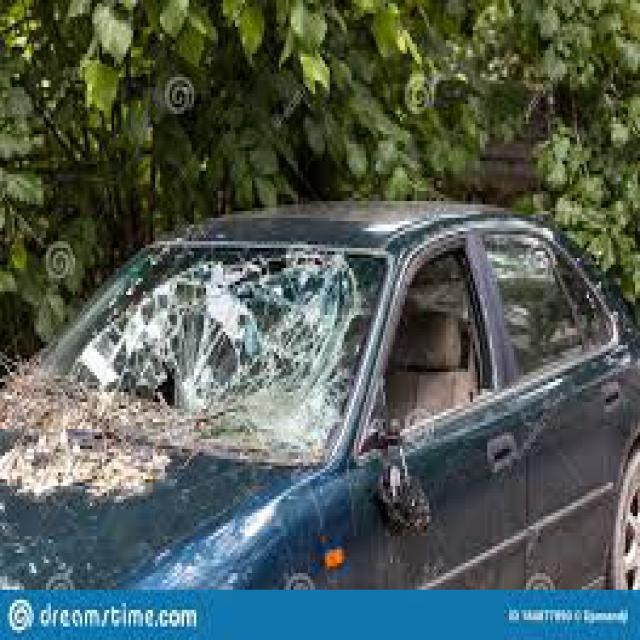Front-Windscreen-Damage: (63, 232, 405, 462)
Sidemirror-Damage: (378, 456, 444, 550)
